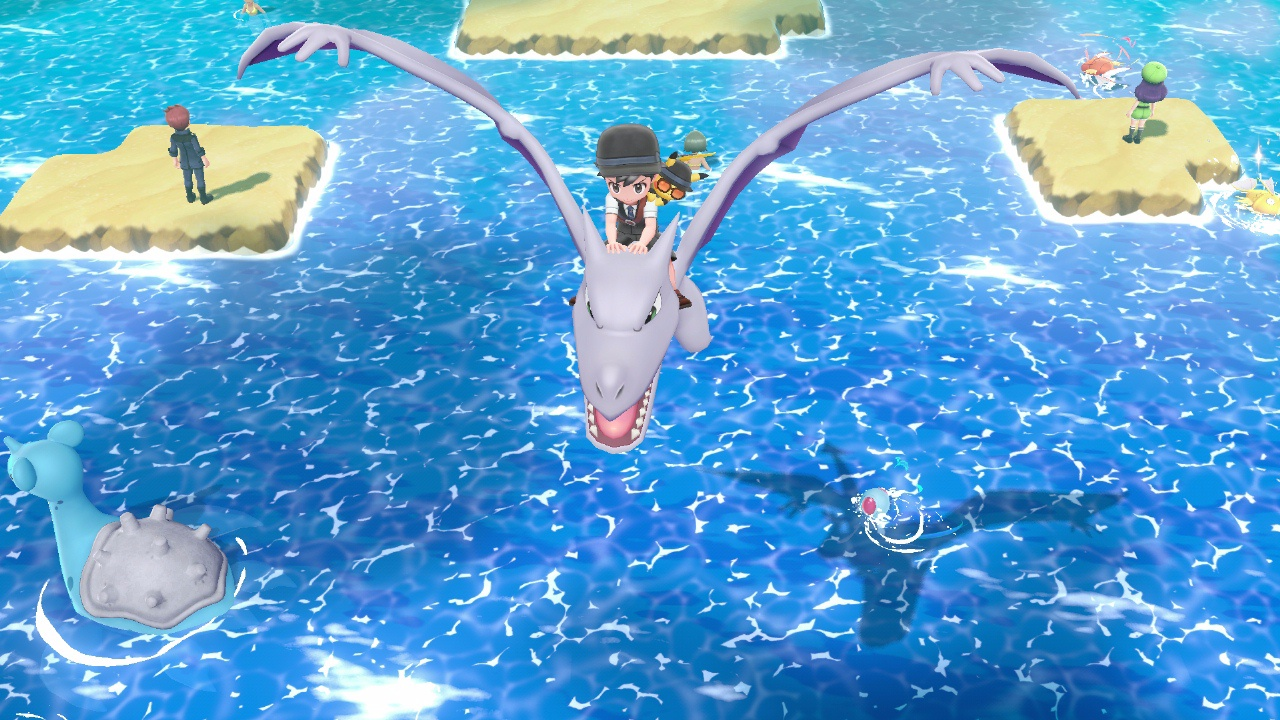Golden: (1236, 184, 1280, 217)
